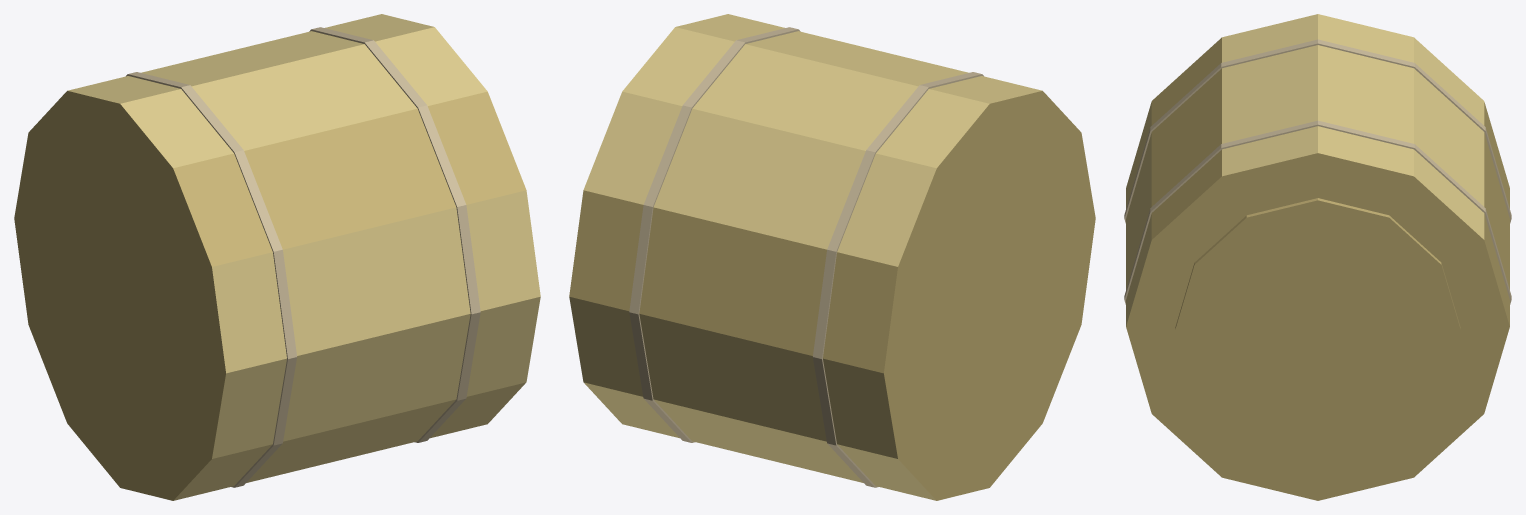
The model's file is hay_round.glb.
The picture shows the model from 3 angles, left to right: view 1: azimuth 30°, elevation 25°; view 2: azimuth 150°, elevation 25°; view 3: azimuth 270°, elevation 25°; orthographic projection. The views are drawn at different scales.
Visible parts, largest first — view 1: hay_round; view 2: hay_round; view 3: hay_round.
Part boxes in pixels (bbox=[...]): hay_round: bbox=[14, 14, 540, 500]; hay_round: bbox=[569, 14, 1095, 500]; hay_round: bbox=[1124, 14, 1511, 500].
Bounding box in the file's own units: 1.22 × 1.41 × 1.41.
